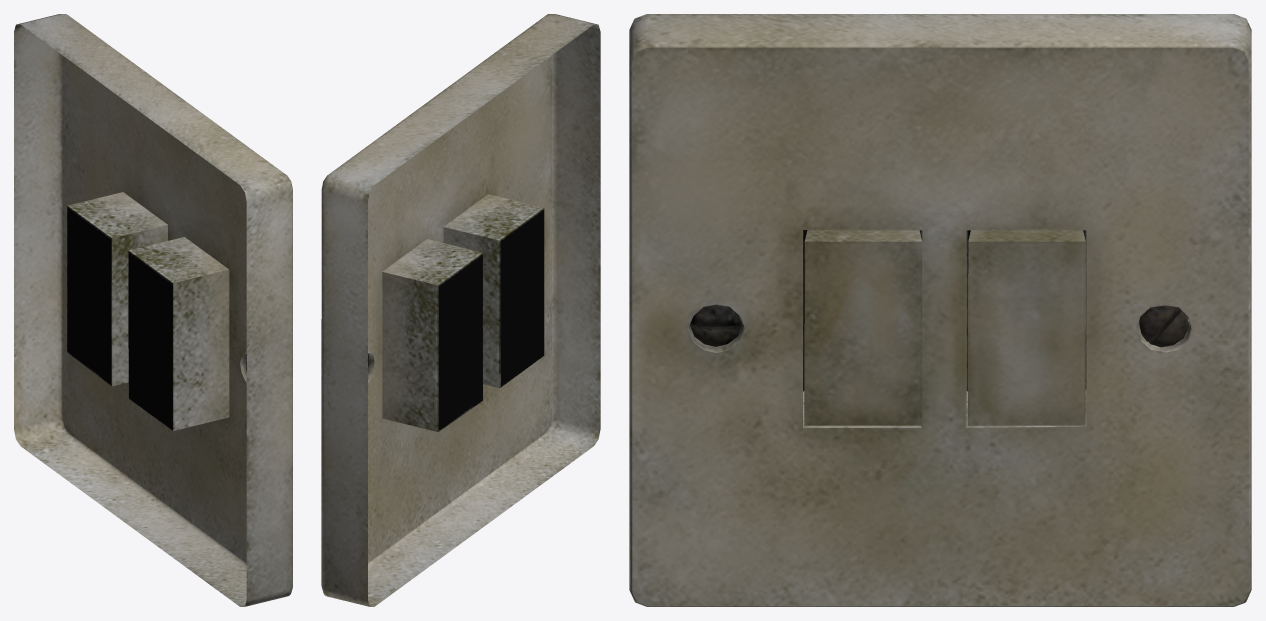
Rendered from TwoSwitch_2.fbx.
3 renders of one model, left to right at view 1: azimuth 30°, elevation 25°; view 2: azimuth 150°, elevation 25°; view 3: azimuth 270°, elevation 25°, orthographic. The views are drawn at different scales.
Visible parts, largest first — view 1: TwoSwitch_2; view 2: TwoSwitch_2; view 3: TwoSwitch_2, TwoSwitch._2_L, TwoSwitch._2_R.
Part boxes in pixels (x1,y1,x2,y2): TwoSwitch_2: (14, 14, 292, 606); TwoSwitch_2: (321, 14, 600, 606); TwoSwitch_2: (629, 14, 1251, 606); TwoSwitch._2_L: (804, 230, 922, 425); TwoSwitch._2_R: (968, 230, 1085, 425).
Size of the model in its own units: 1.46 by 8.5 by 8.5.
